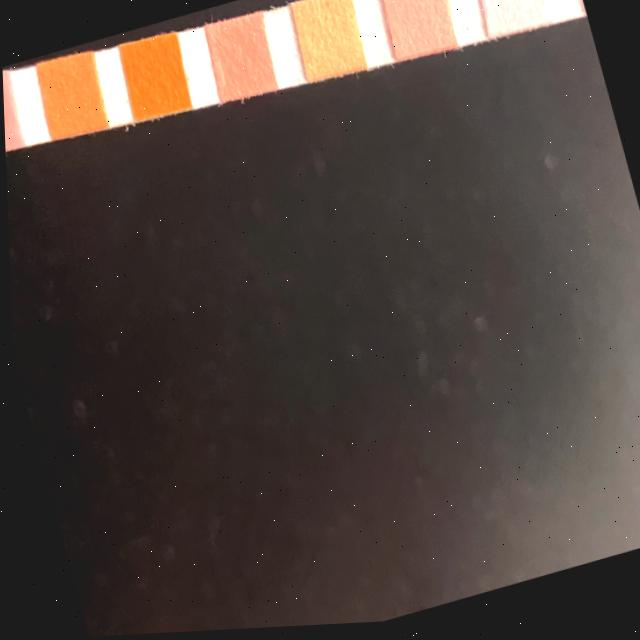Blood: (117, 35, 191, 124)
Ketone: (2, 71, 23, 156)
Nitrite: (473, 0, 551, 42)
Protein: (292, 0, 367, 85)
SpGravity: (36, 52, 105, 139)
Urobilinogen: (381, 0, 458, 64)
pH: (205, 14, 278, 103)
